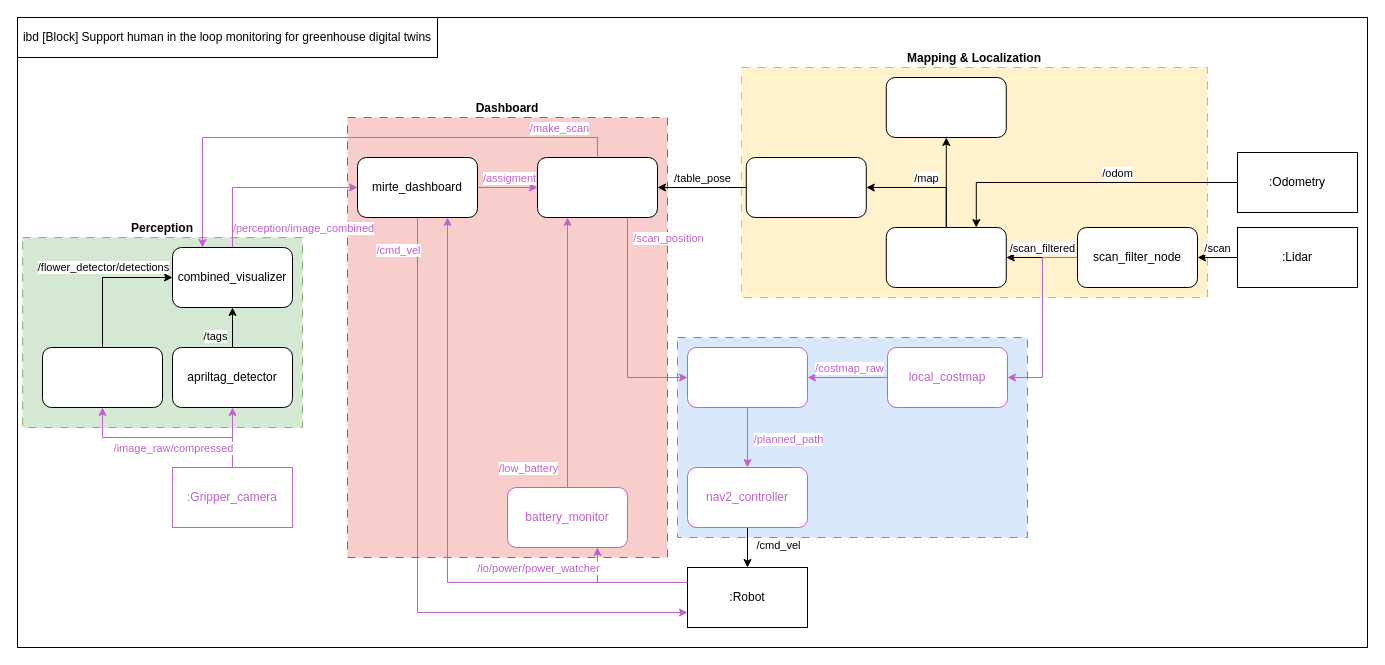
Some shapes in this 1385 by 665 pixel diagram are drawn without their labels. The shapes that lost their labels are listed below. From the top down, each one's box as (x1, y1, x2, y2) in pixels, then its label:
(885, 76, 1006, 138): mapping_manager
(536, 156, 658, 218): mission_planner
(745, 156, 866, 218): table_locator
(885, 226, 1006, 288): slam_toolbox
(42, 346, 162, 408): yolo_flower_detector
(686, 346, 808, 408): nav2_planner
(676, 336, 1028, 538): Navigation
